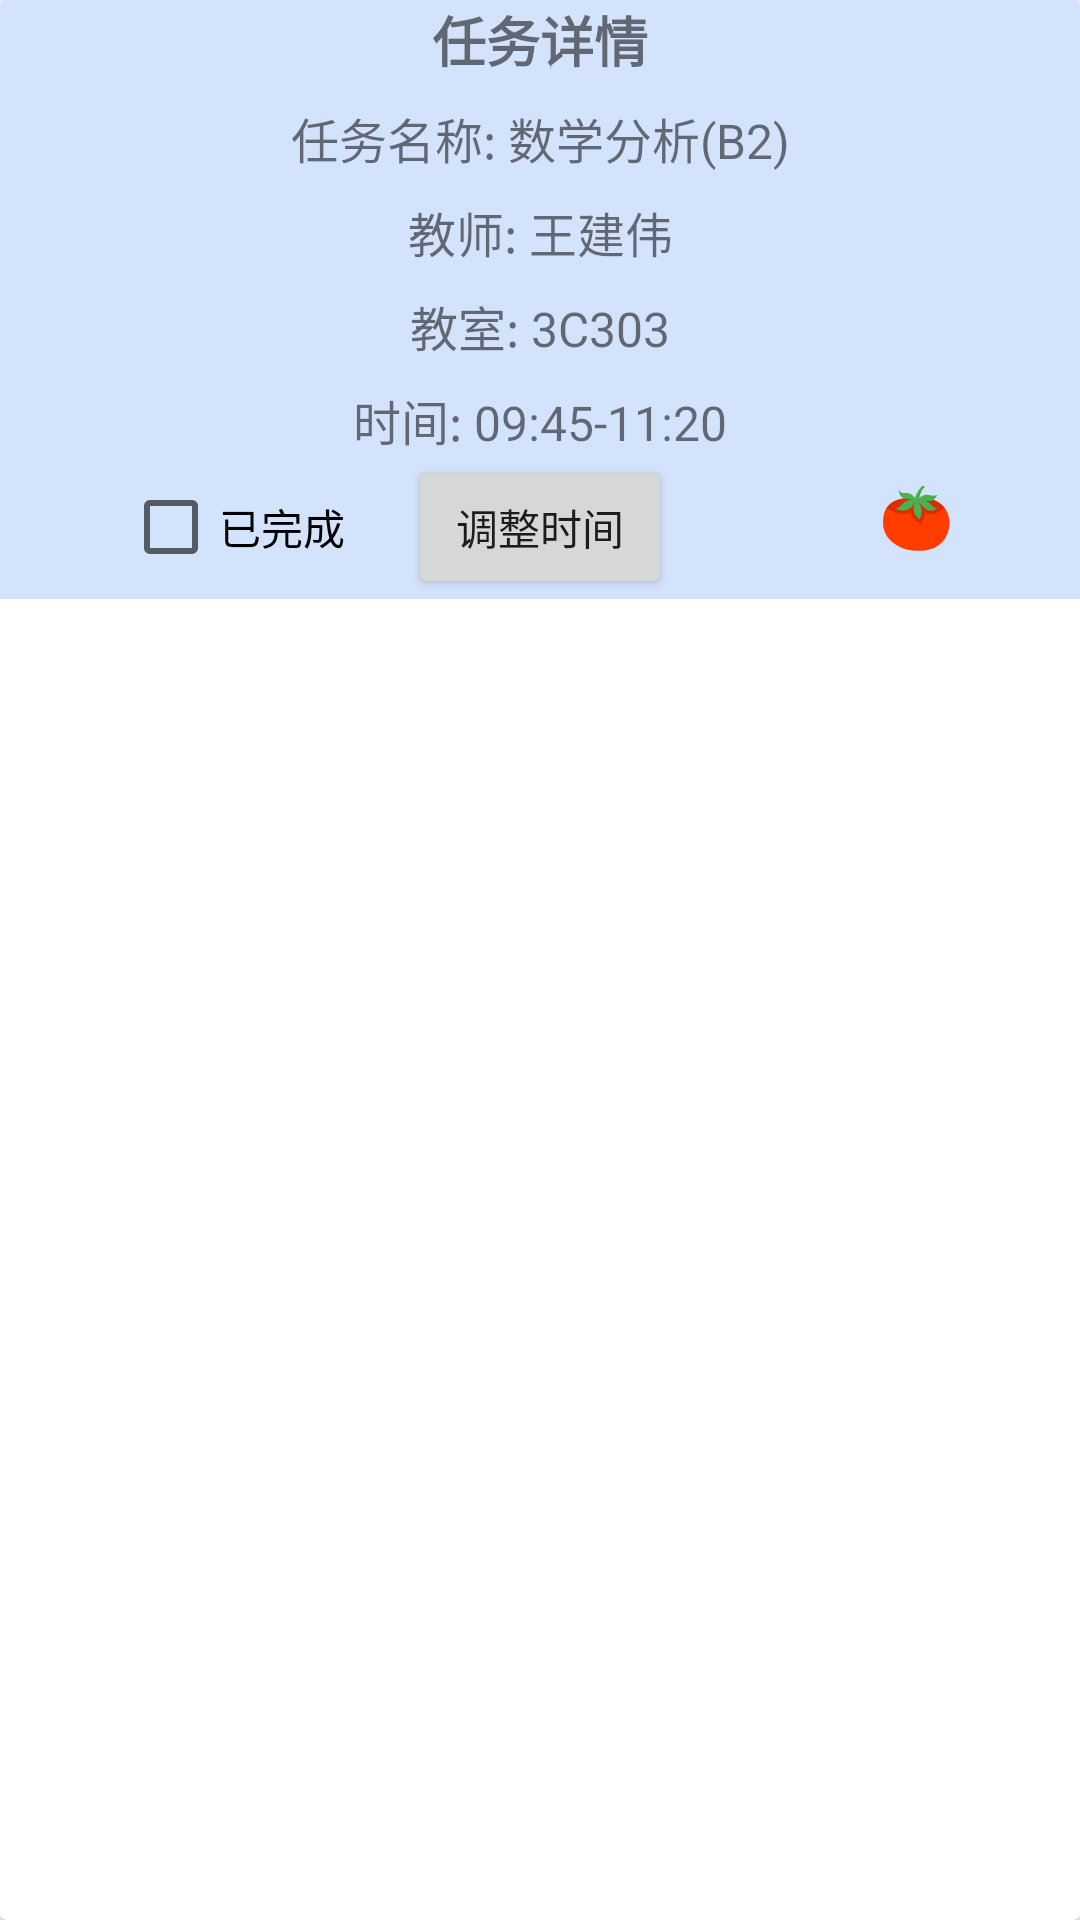

Screen size 1080w x 1920h. Icon name, then its center in pixels as [x,y]:
tomato: [916,518]
